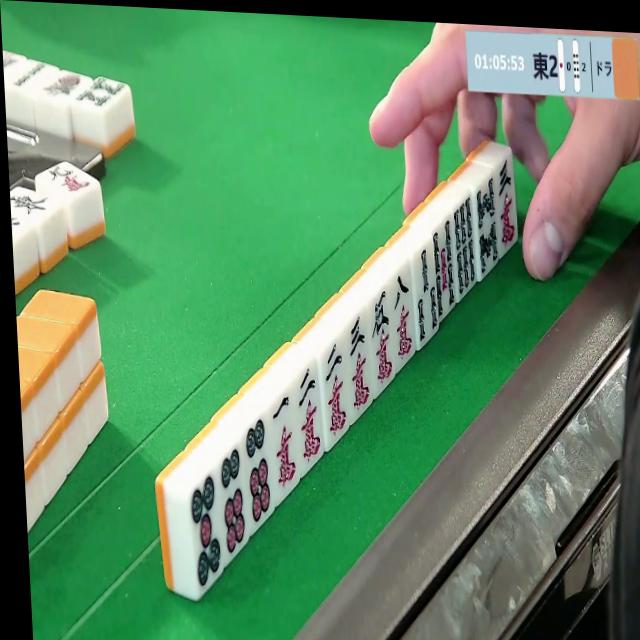m1: (268, 390, 302, 494)
m2: (294, 364, 326, 469), (322, 338, 353, 441)
m3: (346, 313, 376, 416), (496, 154, 517, 250)
m5: (369, 290, 397, 392)
m8: (390, 265, 417, 365)
s3: (414, 244, 438, 350)
s5: (430, 220, 458, 320)
s6: (453, 195, 480, 301)
s8: (475, 178, 502, 279)
t5: (189, 472, 226, 595)
t6: (218, 446, 253, 563), (242, 417, 275, 530)
